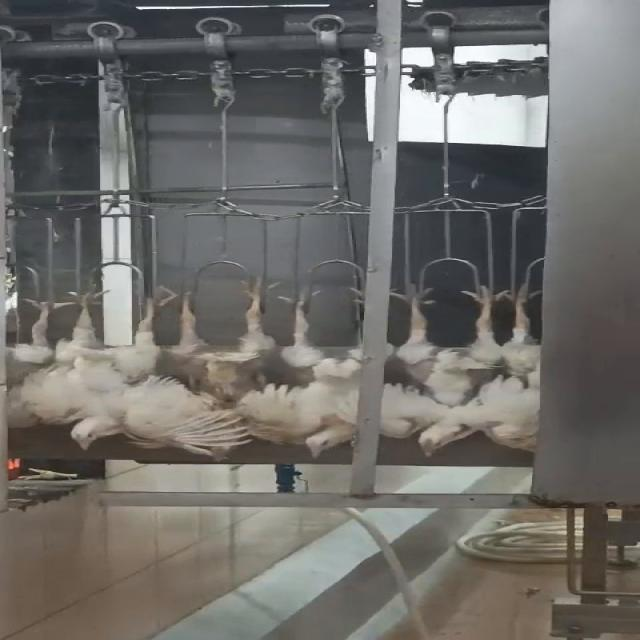chicken: (59, 288, 253, 461), (418, 272, 554, 454), (276, 281, 370, 458), (393, 285, 507, 412), (180, 273, 280, 410), (2, 289, 64, 435)
